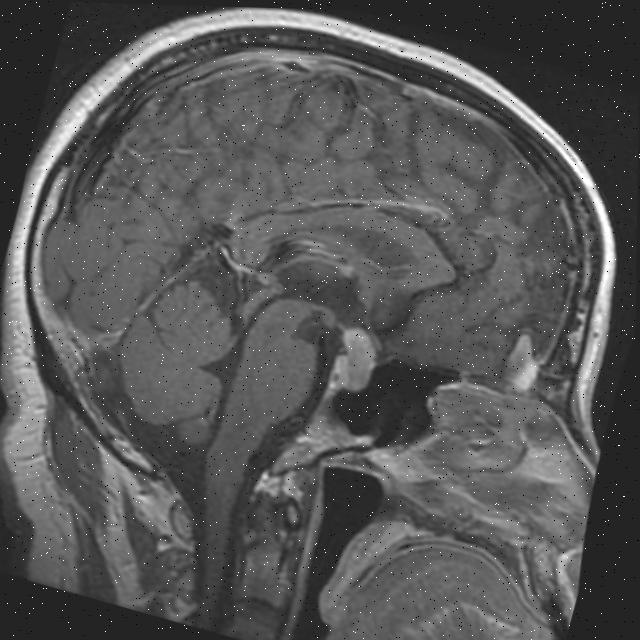Pituitary: (328, 323, 383, 396)
